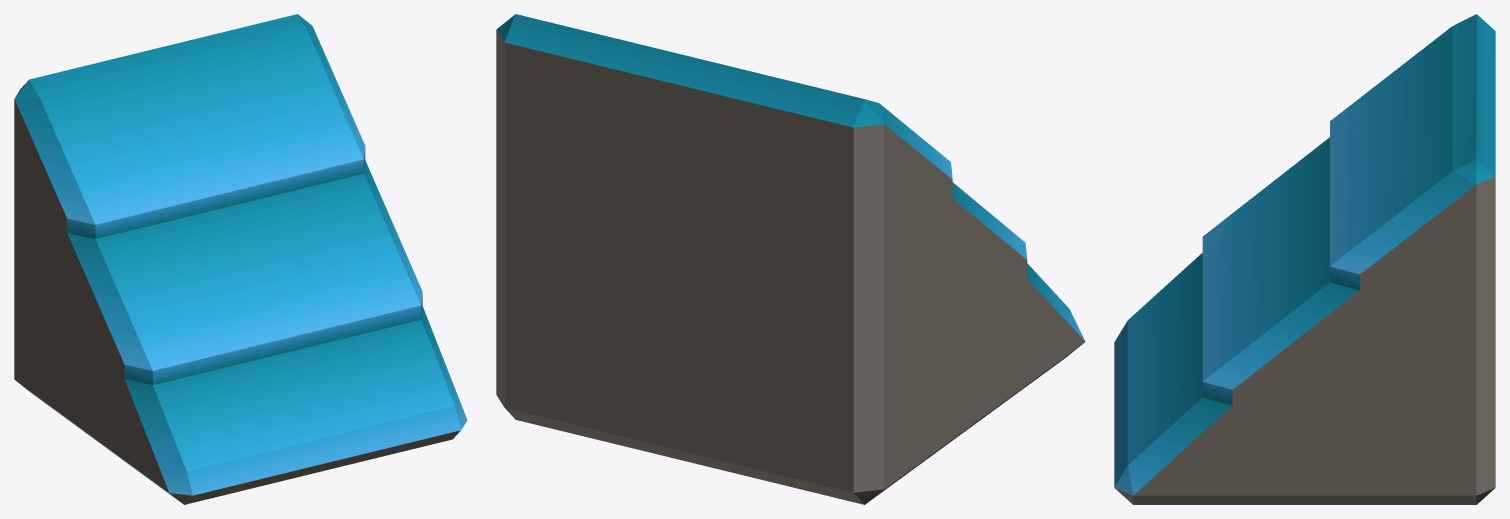
The model's file is m_kub_roofBlue.FBX.
3 views of the same model, side by side, from view 1: azimuth 30°, elevation 25°; view 2: azimuth 150°, elevation 25°; view 3: azimuth 270°, elevation 25° (orthographic). The views are drawn at different scales.
Parts seen in each view (by area): view 1: m_kub_roofBlue; view 2: m_kub_roofBlue; view 3: m_kub_roofBlue.
Boxes of the visible parts, left/top/right/bottom form: m_kub_roofBlue: left=14, top=14, right=467, bottom=504; m_kub_roofBlue: left=496, top=14, right=1085, bottom=504; m_kub_roofBlue: left=1114, top=14, right=1495, bottom=504.
Size of the model in its own units: 2 by 2 by 2.
